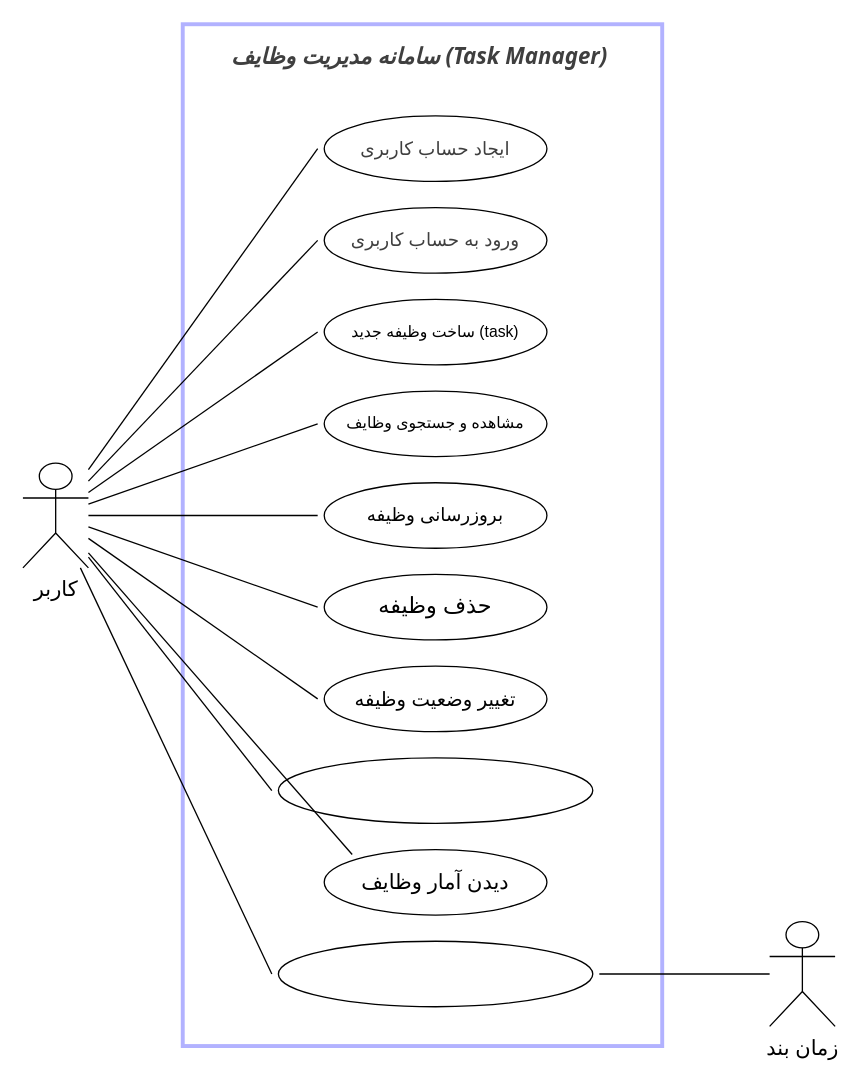
The diagram is 861 pixels wide and 1083 high, and some of its shapes have lost their labels. The shapes that lost their labels are listed below. From the top down, each one's centre as x and y in pixels, then its label:
At (x=435, y=790): "مدیریت دسته بندی ها و تگ ها".
At (x=435, y=973): "دریافت یادآور موعد تحویل".
